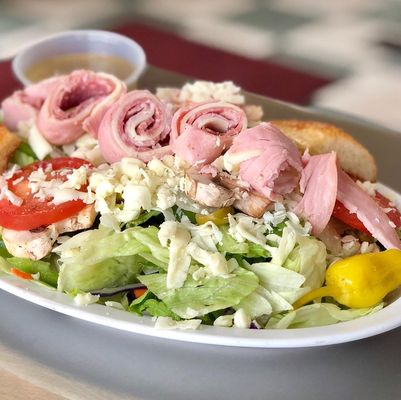sushi: (8, 29, 147, 93)
